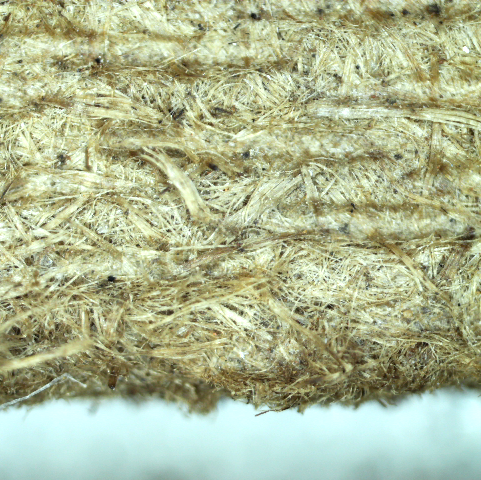ovo: (162, 99, 193, 129)
